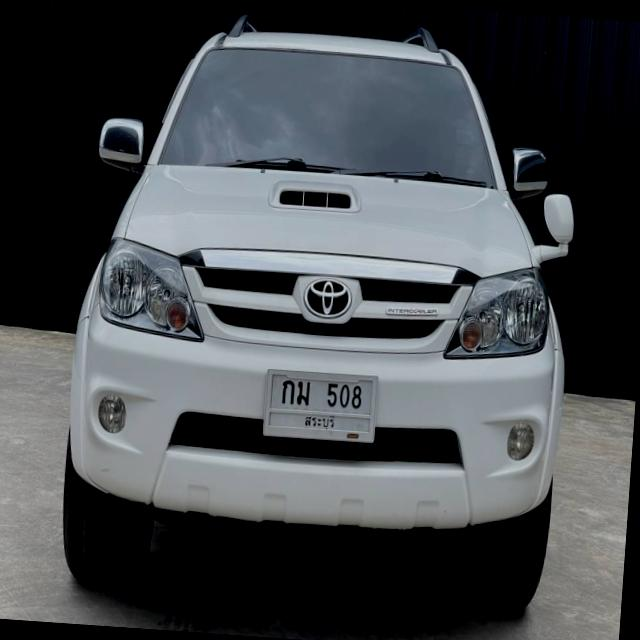license_plate: (260, 368, 382, 447)
